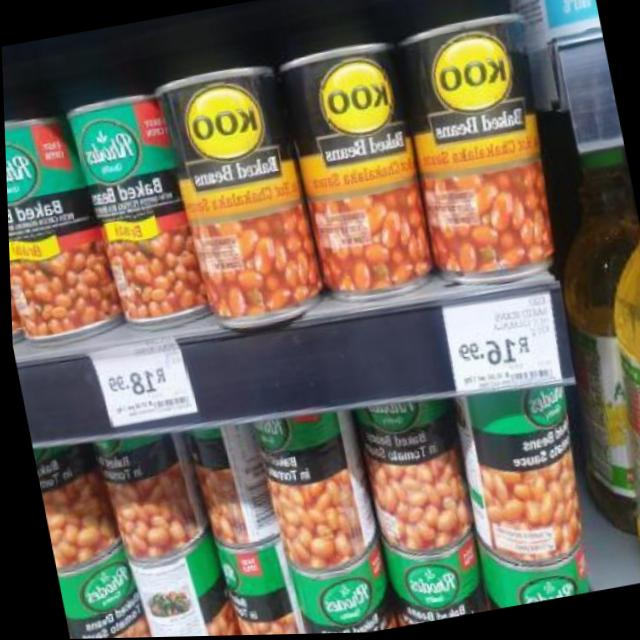Beans: (397, 19, 542, 134), (276, 50, 407, 155), (154, 74, 285, 177), (65, 103, 167, 197), (384, 549, 483, 629), (284, 561, 391, 635), (3, 115, 80, 215), (469, 382, 572, 456), (51, 553, 138, 627), (244, 406, 341, 470), (482, 557, 592, 611)
